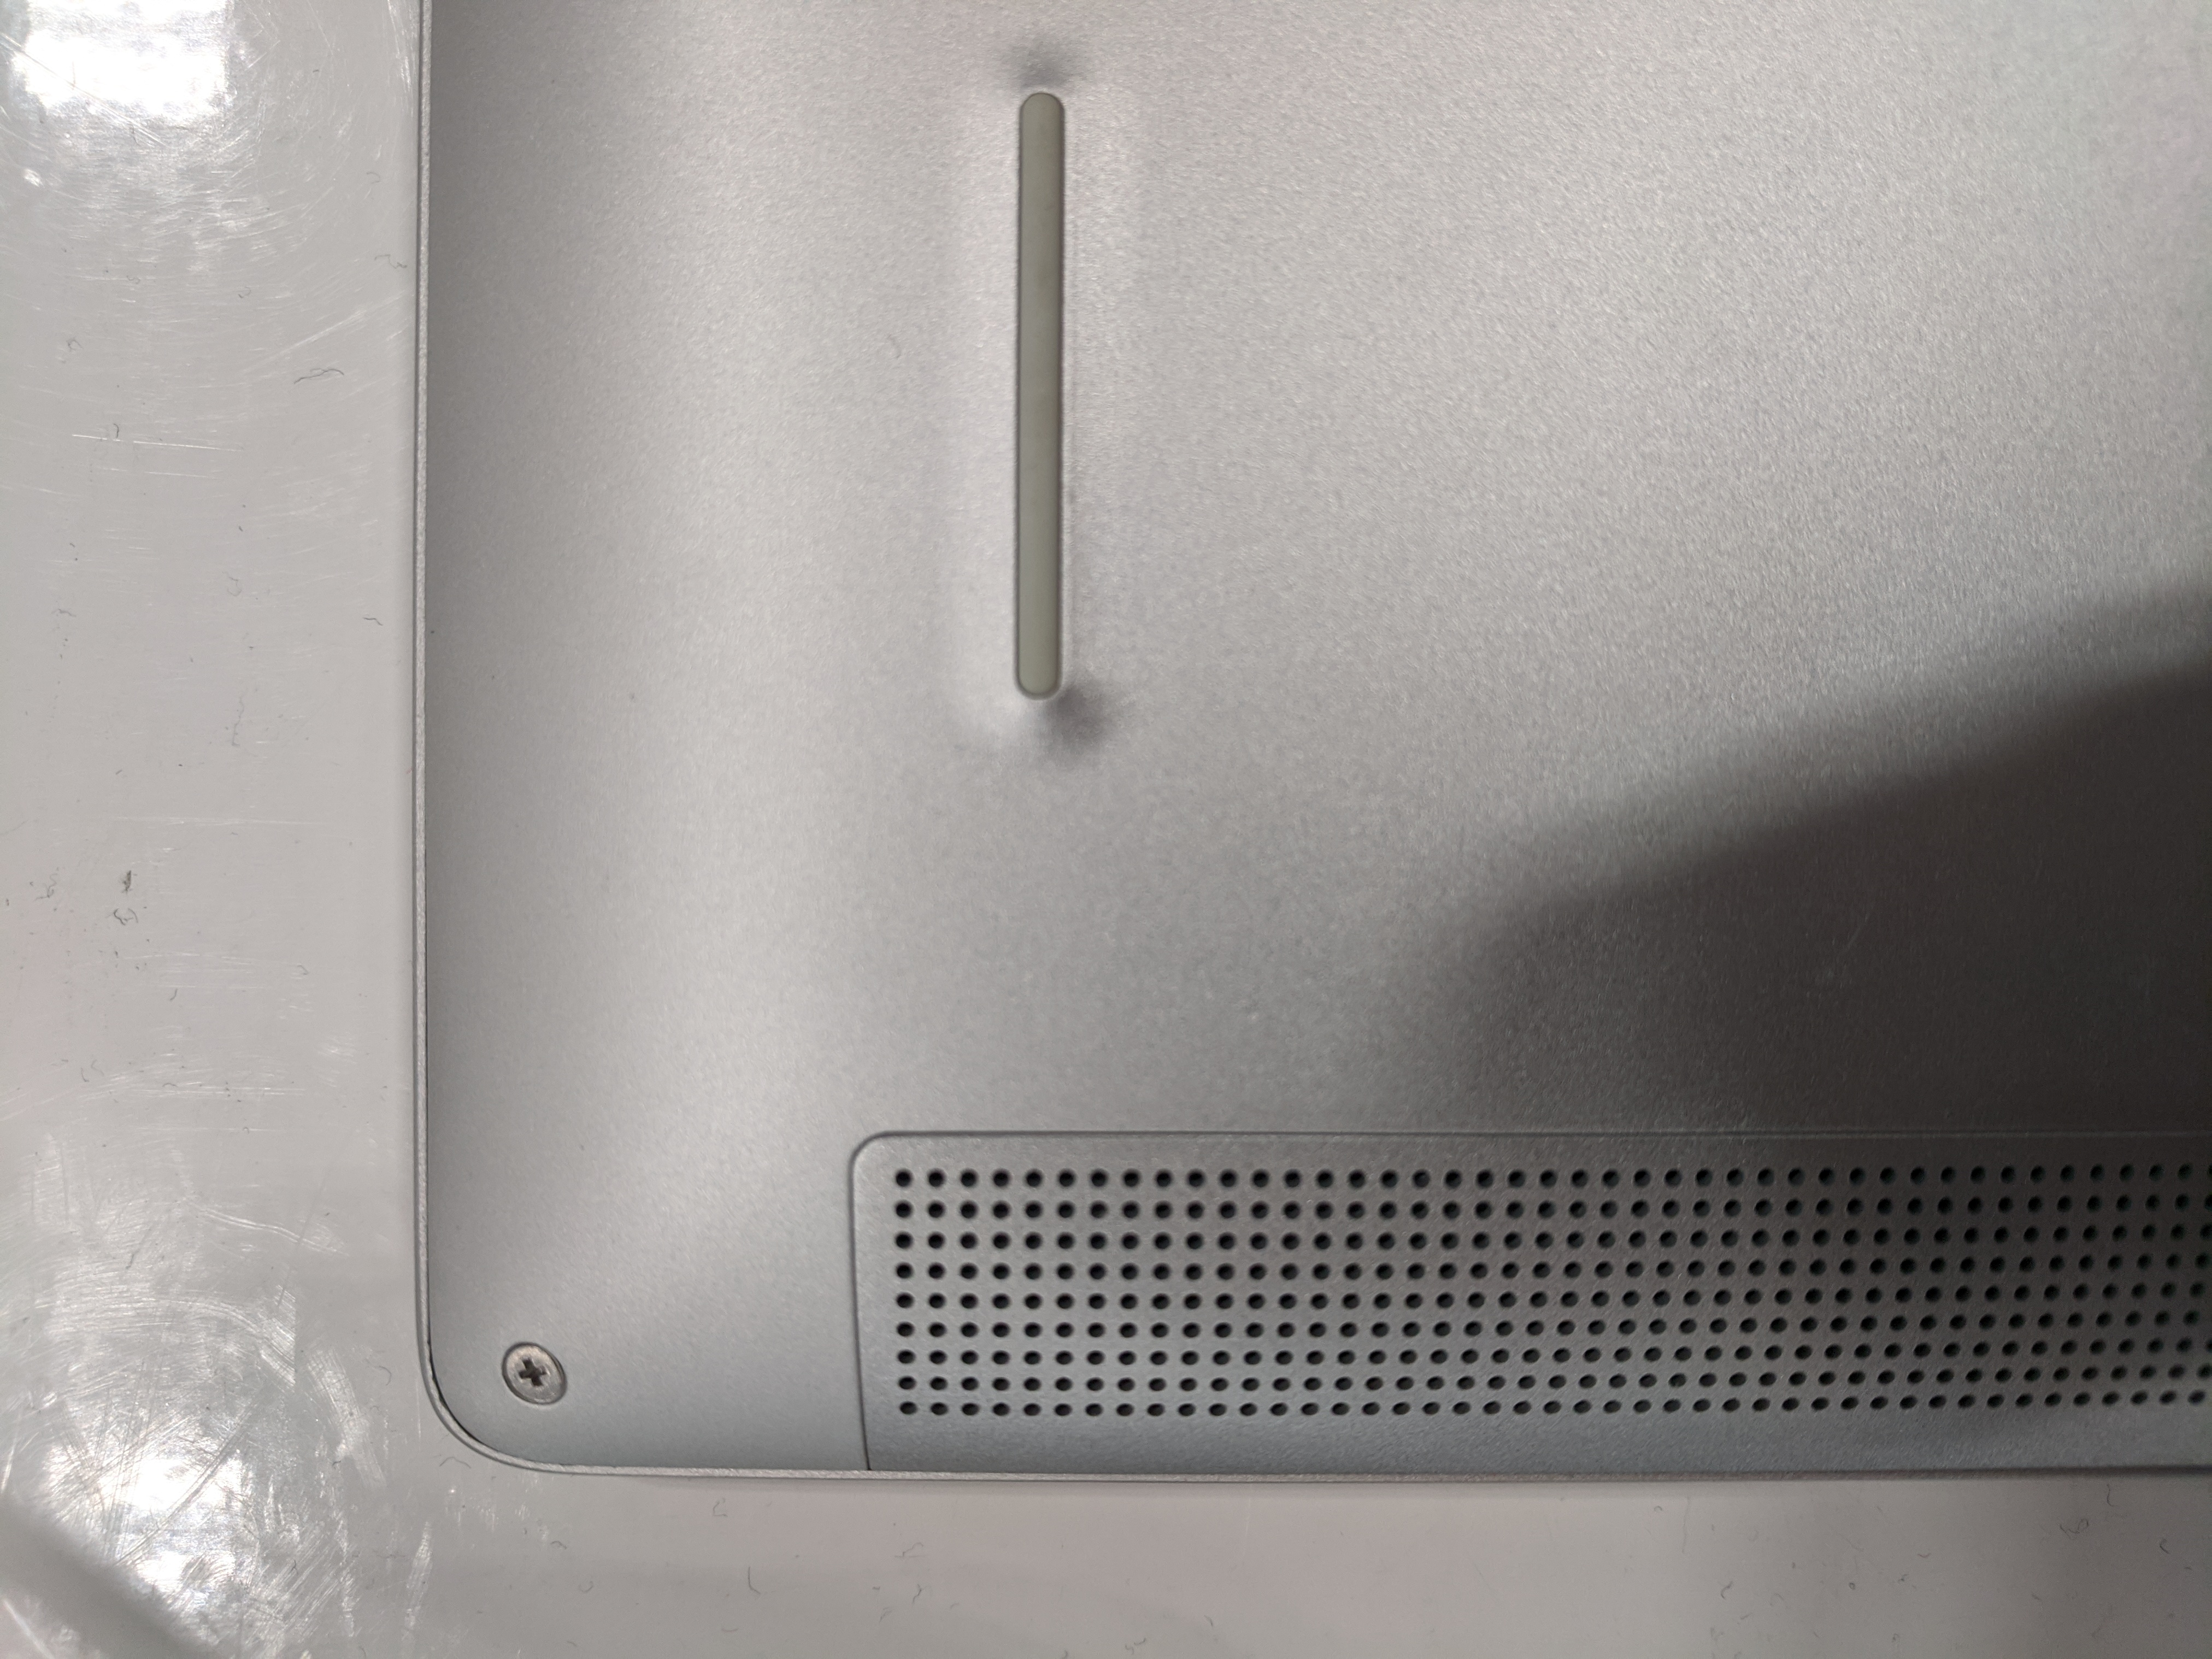cross_recessed_screw: (491, 1337, 575, 1408)
